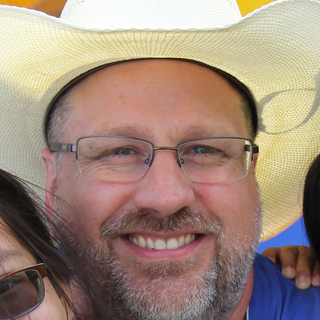eye: (87, 139, 147, 168), (177, 139, 232, 166)
